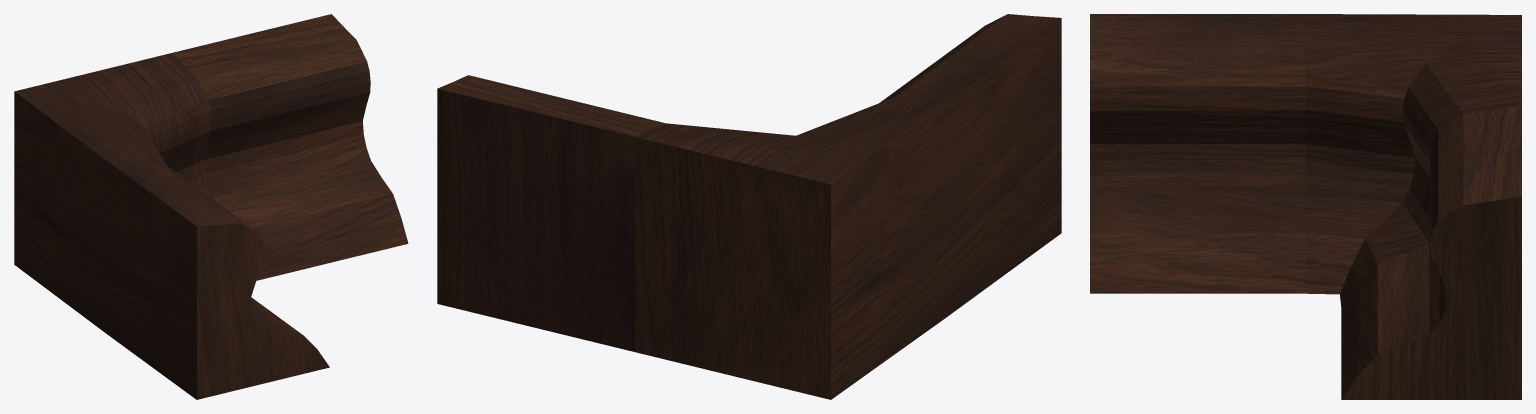
The model's file is plinthangle.fbx.
3 renders of one model, left to right at view 1: azimuth 30°, elevation 25°; view 2: azimuth 150°, elevation 25°; view 3: azimuth 270°, elevation 25°, orthographic. The views are drawn at different scales.
Parts seen in each view (by area): view 1: Cube.002; view 2: Cube.002; view 3: Cube.002.
Part boxes in pixels (left/top/right/bottom): Cube.002: left=14, top=14, right=408, bottom=399; Cube.002: left=437, top=14, right=1061, bottom=399; Cube.002: left=1090, top=14, right=1521, bottom=399.
Size of the model in its own units: 25 by 13 by 25.
